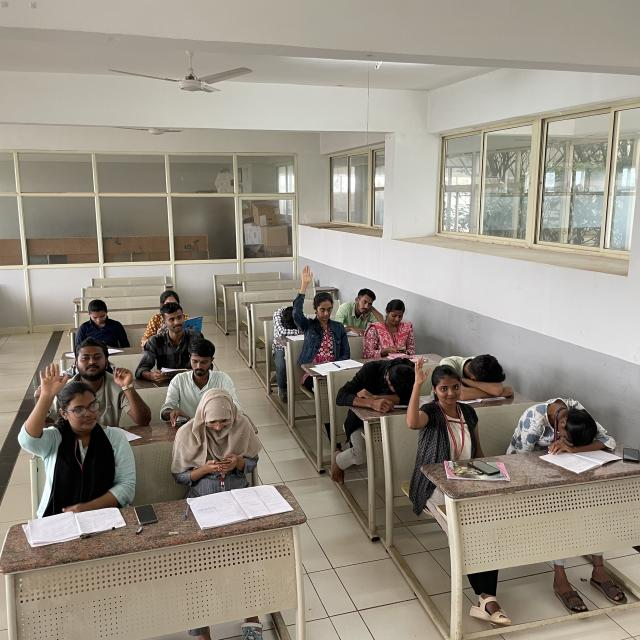Hand Rising: (21, 361, 130, 499), (407, 352, 483, 458), (294, 262, 350, 357)
Reading: (140, 308, 198, 380), (144, 290, 208, 346)
Sleeping: (510, 394, 616, 453), (344, 358, 417, 411), (446, 352, 518, 399), (270, 302, 307, 340)
Using Phone: (168, 390, 256, 487), (364, 301, 418, 356), (79, 297, 132, 352)
